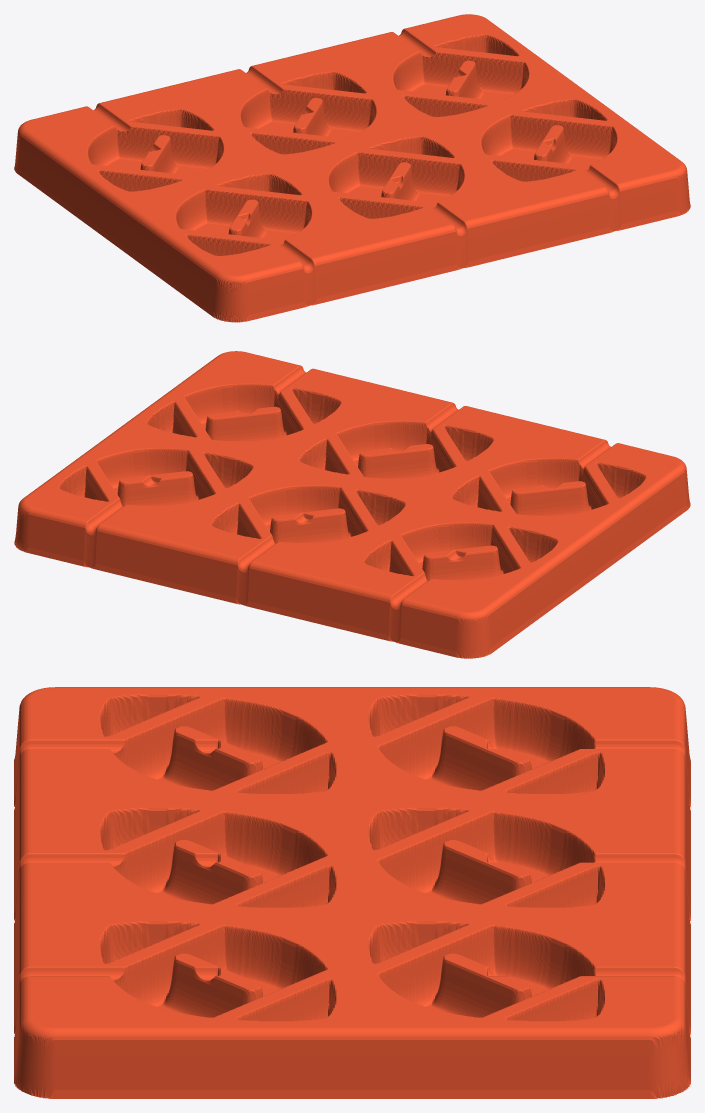
The model's file is mold.glb.
3 views of the same model, one above another, from view 1: azimuth 30°, elevation 25°; view 2: azimuth 150°, elevation 25°; view 3: azimuth 270°, elevation 25° (orthographic). The views are drawn at different scales.
Parts seen in each view (by area): view 1: geometry_0; view 2: geometry_0; view 3: geometry_0.
Boxes of the visible parts, left/top/right/bottom form: geometry_0: left=14, top=14, right=690, bottom=322; geometry_0: left=14, top=351, right=690, bottom=658; geometry_0: left=14, top=687, right=690, bottom=1098.
Size of the model in its own units: 0.1824 by 0.0155 by 0.1477.
